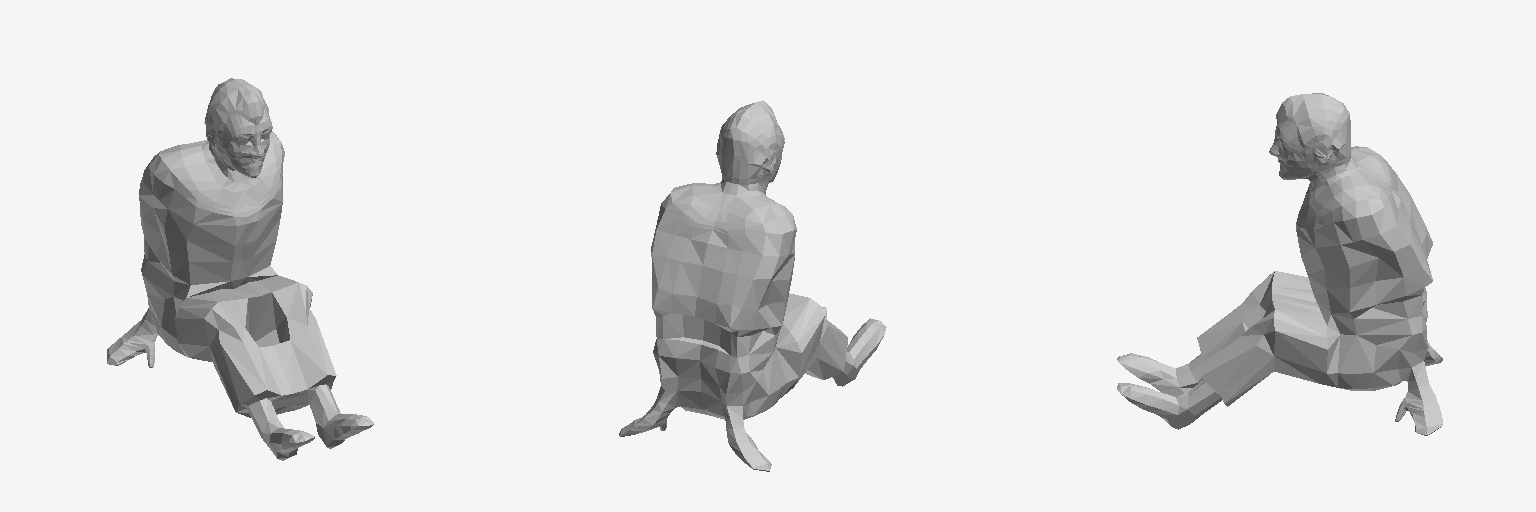
Rendered from TiedUpMan_Lowpoly.obj.
3 renders of one model, left to right at view 1: azimuth 30°, elevation 25°; view 2: azimuth 150°, elevation 25°; view 3: azimuth 270°, elevation 25°, orthographic.
Visible parts, largest first — view 1: Body; view 2: Body; view 3: Body.
Boxes of the visible parts, <box> form: Body: <box>107,78,373,460</box>; Body: <box>619,100,886,471</box>; Body: <box>1117,93,1442,435</box>.
Bounding box in the file's own units: 1.82 × 3.72 × 3.39.